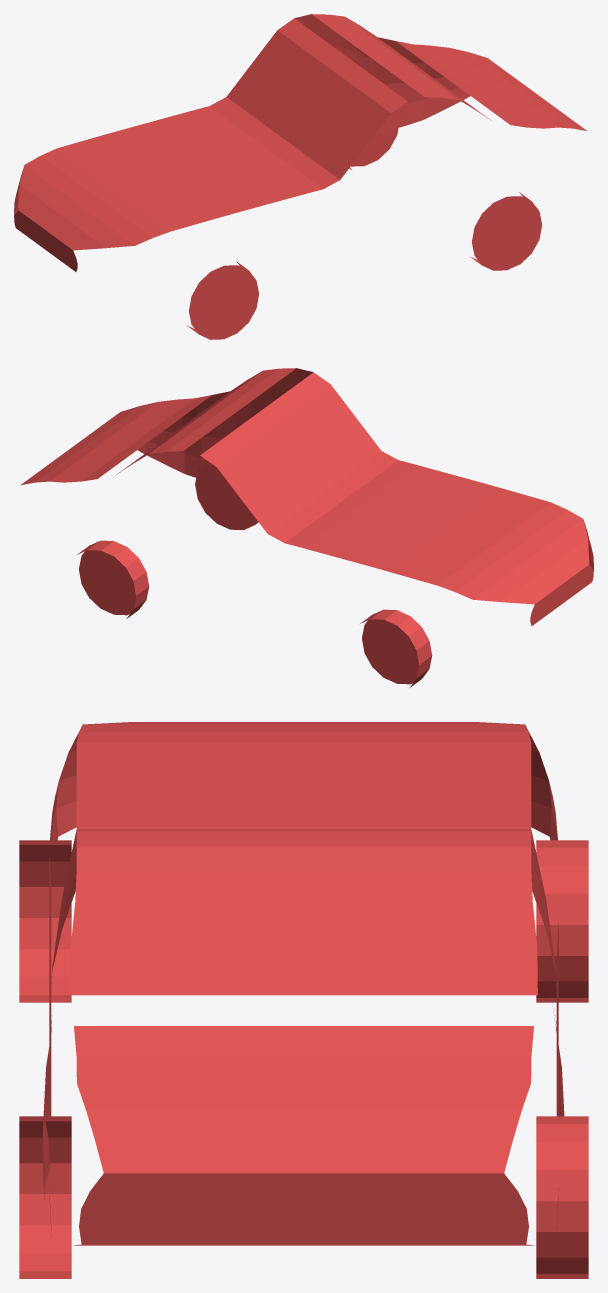
The model's file is sports.glb.
The picture shows the model from 3 angles, top to bottom: view 1: azimuth 30°, elevation 25°; view 2: azimuth 150°, elevation 25°; view 3: azimuth 270°, elevation 25°; orthographic projection. The views are drawn at different scales.
Parts seen in each view (by area): view 1: MX5_NA; view 2: MX5_NA; view 3: MX5_NA.
Boxes of the visible parts, x1,y1,x2,y2 form: MX5_NA: [14, 14, 587, 339]; MX5_NA: [20, 368, 593, 687]; MX5_NA: [19, 722, 588, 1278].
Size of the model in its own units: 3.91 by 1.36 by 1.96.
